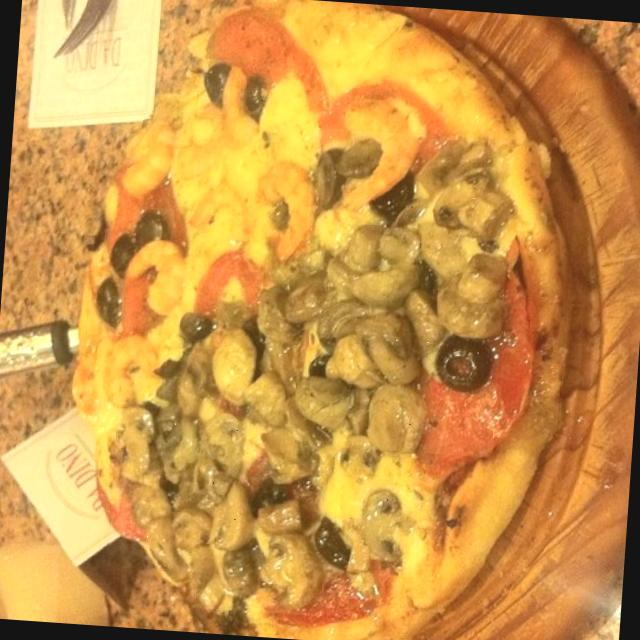Olive: (432, 333, 493, 394), (365, 163, 419, 227), (308, 515, 356, 578), (86, 274, 125, 335), (242, 474, 291, 519), (130, 204, 174, 253), (239, 73, 276, 127), (197, 57, 232, 113), (102, 229, 140, 280)
mushrooms: (291, 126, 514, 456), (158, 264, 340, 476), (107, 400, 260, 575), (194, 482, 330, 615), (350, 481, 420, 576)
pizza: (72, 0, 568, 640)
